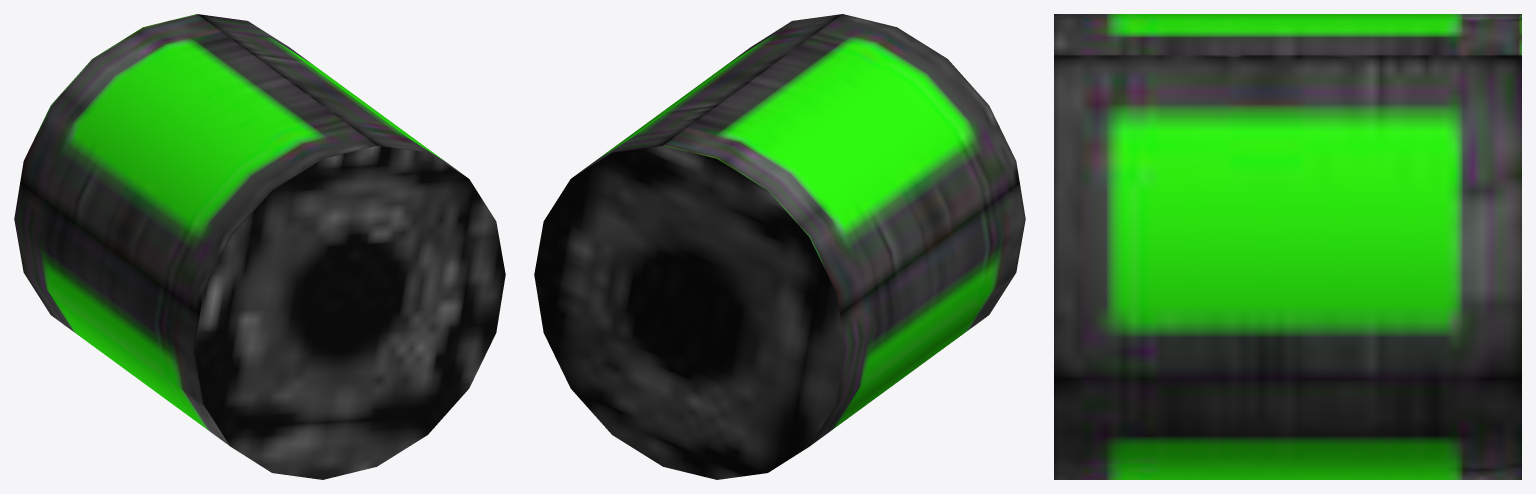
The model's file is fuelbarrel.fbx.
The picture shows the model from 3 angles, left to right: view 1: azimuth 30°, elevation 25°; view 2: azimuth 150°, elevation 25°; view 3: azimuth 270°, elevation 25°; orthographic projection. The views are drawn at different scales.
Visible parts, largest first — view 1: Cylinder001; view 2: Cylinder001; view 3: Cylinder001.
Part boxes in pixels (box(x1,y1,x2,y2)): Cylinder001: box(14, 14, 505, 479); Cylinder001: box(534, 14, 1025, 479); Cylinder001: box(1054, 14, 1521, 479).
Bounding box in the file's own units: 1 × 0.9848 × 1.
